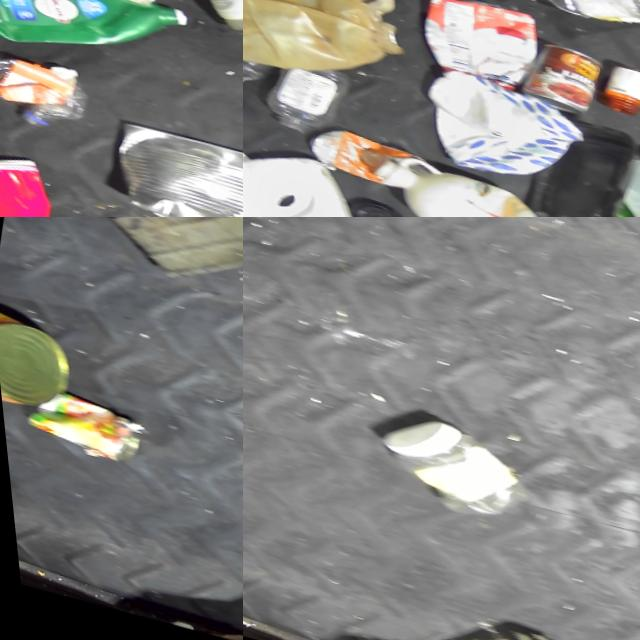can: (86, 114, 243, 217), (28, 393, 145, 474), (0, 302, 75, 425), (511, 36, 612, 117)
non_white_jug: (0, 0, 190, 81), (243, 0, 412, 86)
plastic_bottle: (365, 408, 531, 523), (262, 51, 349, 141)
